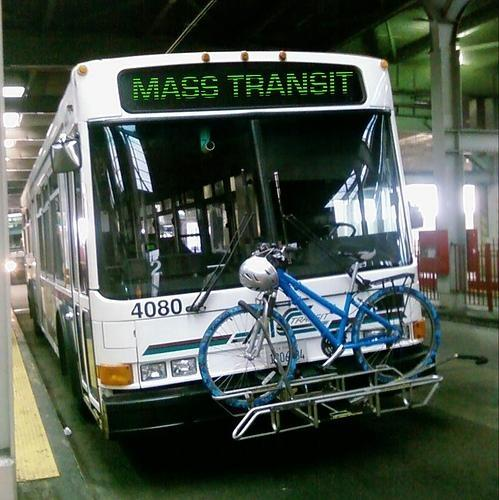bicycle: (192, 240, 440, 407)
bus: (22, 51, 442, 440)
